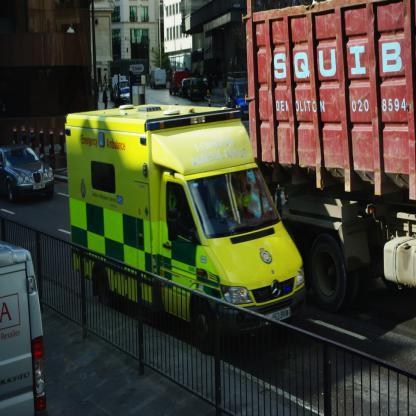Ambulance - v1 Ambulance last generate: (64, 103, 310, 360)
